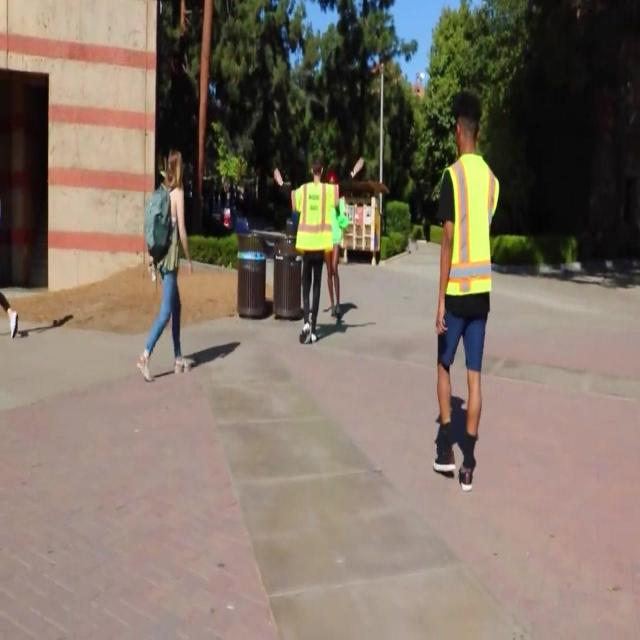Reflective-Jacket: (434, 151, 506, 313), (290, 178, 343, 260)
